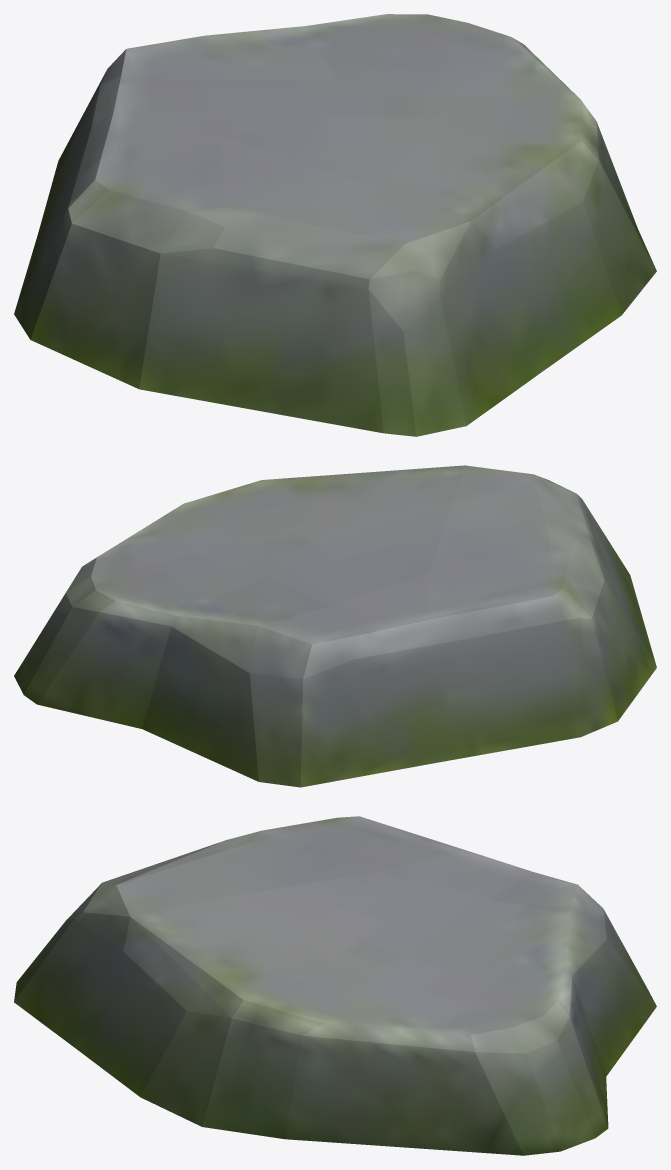
File: sn_pebble_round_3.glb
The picture shows the model from 3 angles, top to bottom: view 1: azimuth 30°, elevation 25°; view 2: azimuth 150°, elevation 25°; view 3: azimuth 270°, elevation 25°; orthographic projection. The views are drawn at different scales.
Visible parts, largest first — view 1: Pebble_Round_3; view 2: Pebble_Round_3; view 3: Pebble_Round_3.
Part boxes in pixels (x1=…): Pebble_Round_3: x1=14, y1=14, x2=656, y2=436; Pebble_Round_3: x1=14, y1=465, x2=656, y2=787; Pebble_Round_3: x1=14, y1=816, x2=656, y2=1155.
Size of the model in its own units: 0.4497 by 0.0986 by 0.4848.
1 material, 1 textured.
